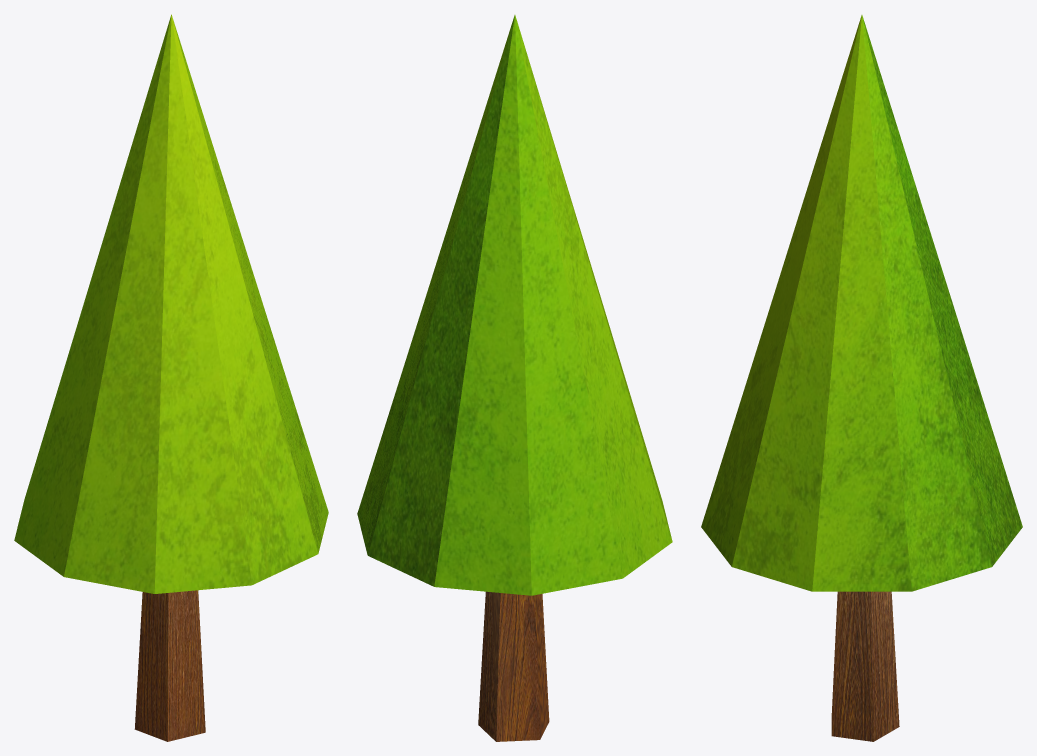
The model's file is tree.fbx.
The picture shows the model from 3 angles, left to right: view 1: azimuth 30°, elevation 25°; view 2: azimuth 150°, elevation 25°; view 3: azimuth 270°, elevation 25°; orthographic projection.
Visible parts, largest first — view 1: Cylinder; view 2: Cylinder; view 3: Cylinder.
Part boxes in pixels (left/top/right/bottom): Cylinder: left=14, top=14, right=328, bottom=741; Cylinder: left=357, top=15, right=672, bottom=741; Cylinder: left=701, top=15, right=1022, bottom=741.
Size of the model in its own units: 815 by 2094 by 857.
Materials: 2 (2 with a texture image).
